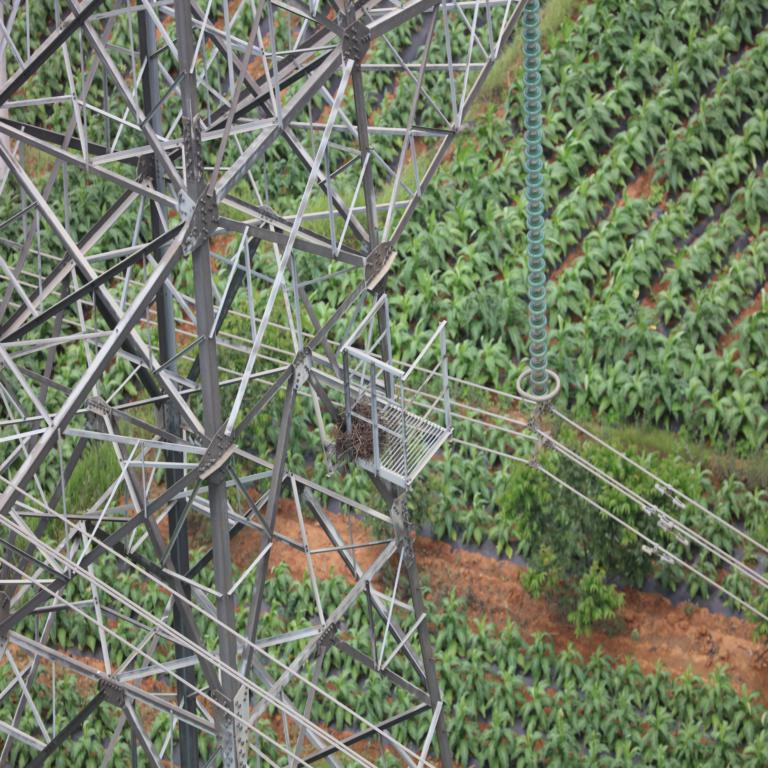nest: (333, 405, 383, 457)
